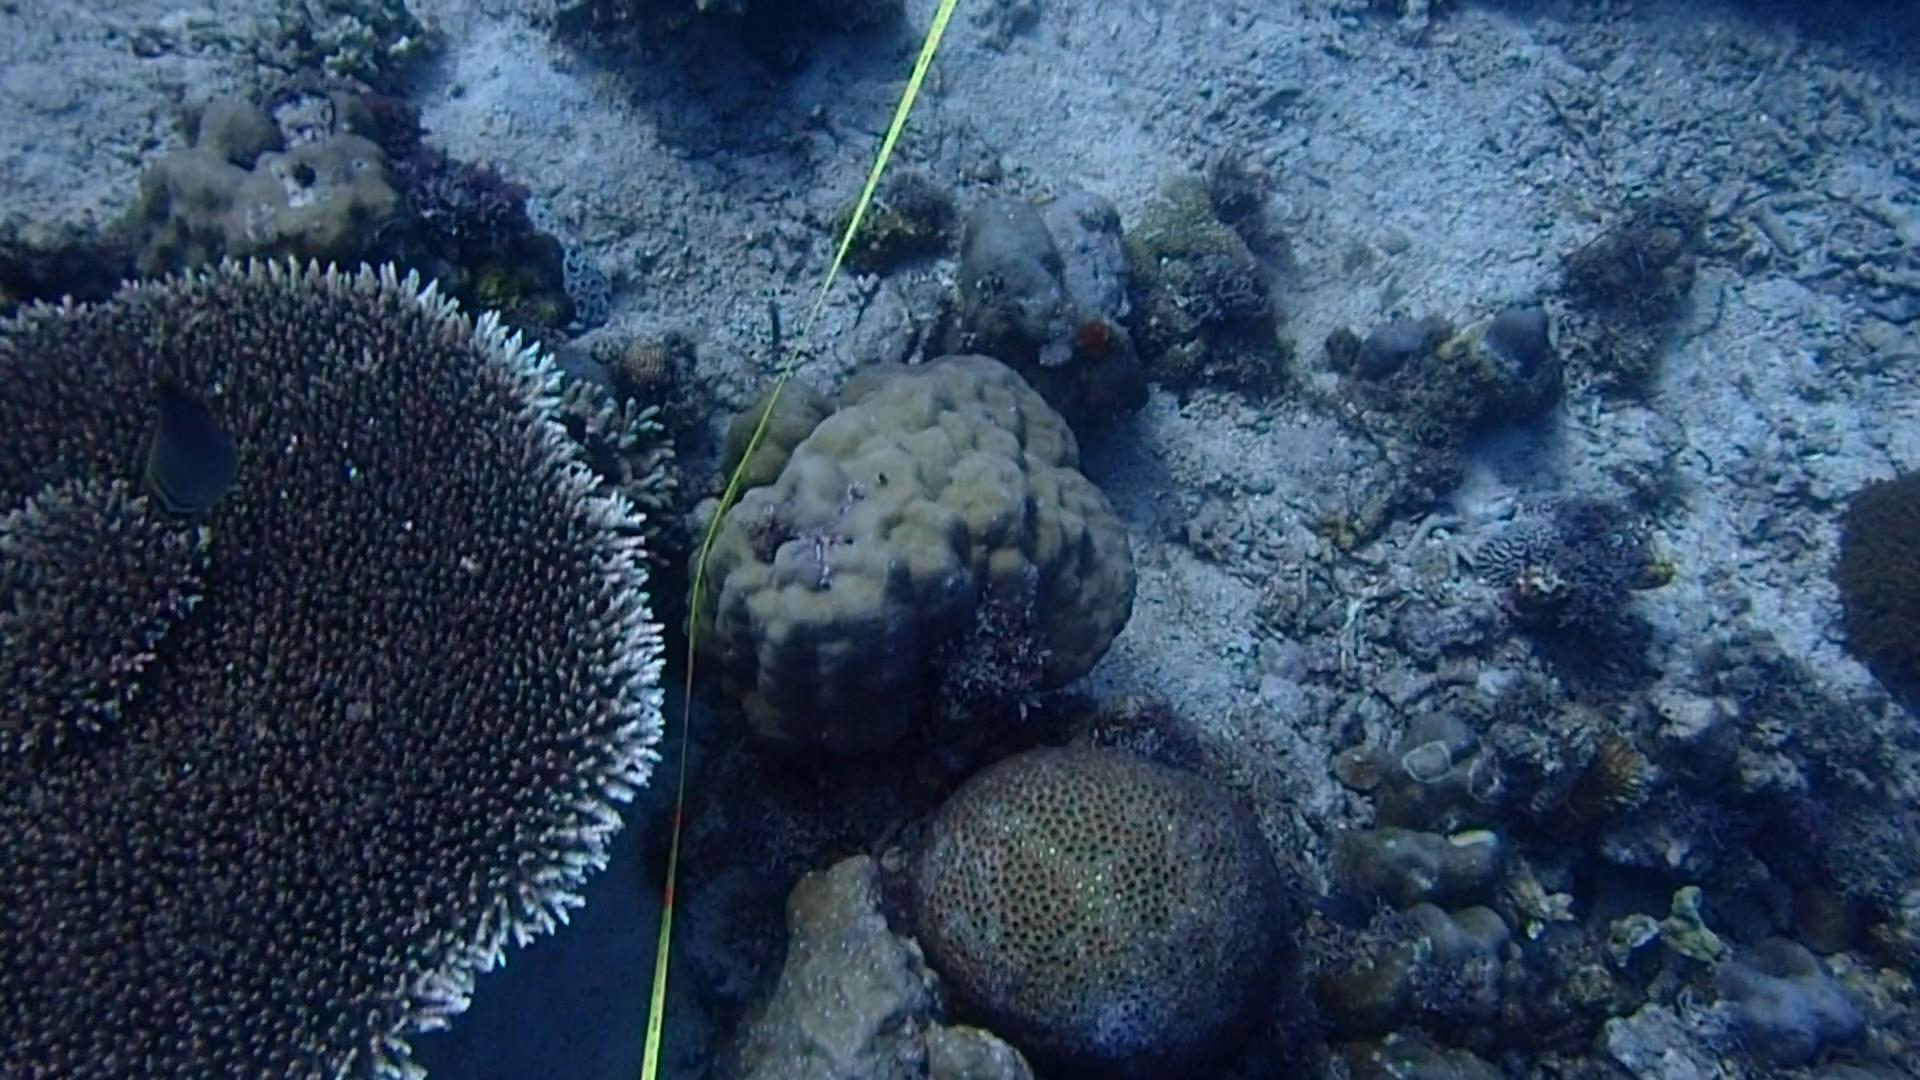Dark Blue Dory: (123, 368, 243, 526)
Light Fish: (1307, 886, 1379, 944)
